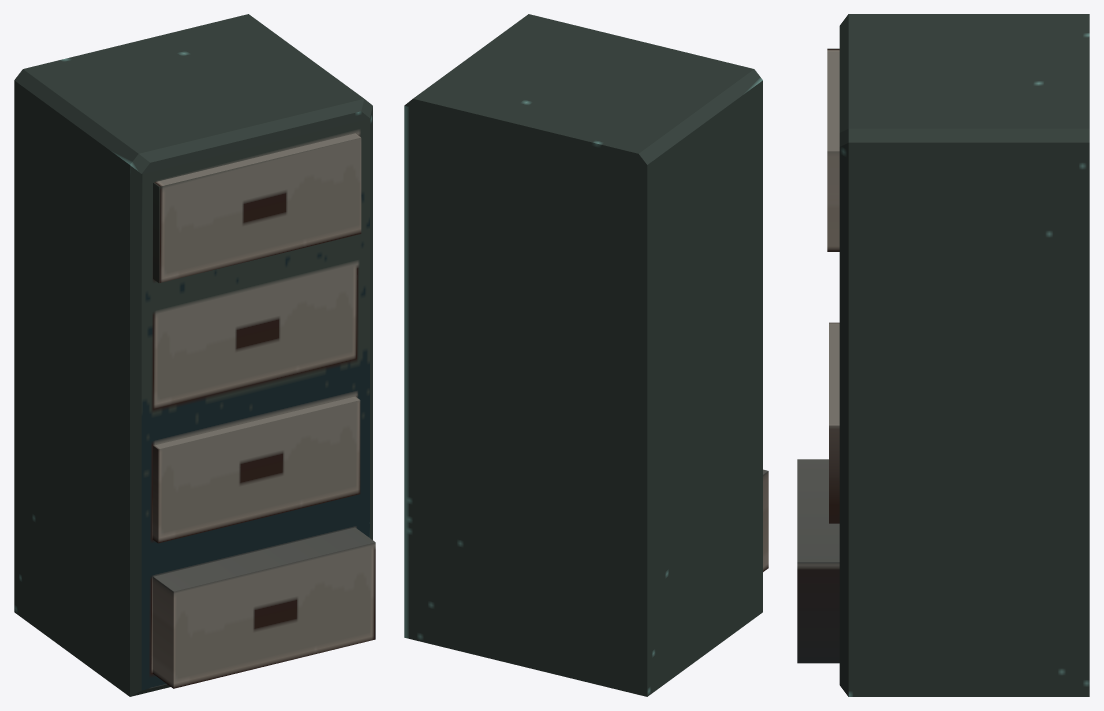
File: ArmarioVerde2.fbx
3 renders of one model, left to right at view 1: azimuth 30°, elevation 25°; view 2: azimuth 150°, elevation 25°; view 3: azimuth 270°, elevation 25°, orthographic. The views are drawn at different scales.
Parts seen in each view (by area): view 1: ArmarioVerde2; view 2: ArmarioVerde2; view 3: ArmarioVerde2.
Boxes of the visible parts, bbox=[...] form: ArmarioVerde2: bbox=[14, 14, 375, 696]; ArmarioVerde2: bbox=[404, 14, 768, 696]; ArmarioVerde2: bbox=[797, 14, 1089, 696].
Size of the model in its own units: 103 by 103 by 218.
